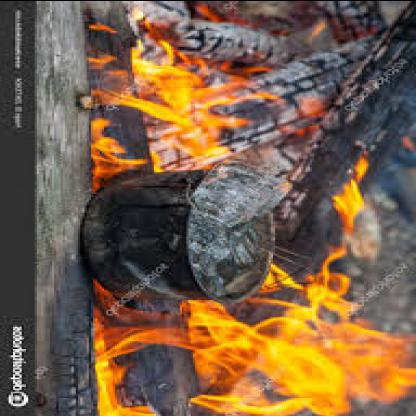Fire: (204, 316, 408, 406), (140, 57, 216, 137), (92, 322, 154, 414)
